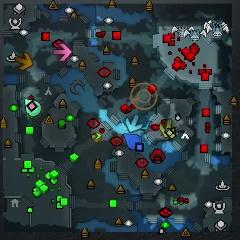p1: (124, 133, 141, 149)
p2: (25, 98, 41, 116)
x1: (53, 44, 71, 61)
x2: (161, 120, 175, 137)
x3: (125, 115, 143, 132)
x5: (16, 53, 33, 70)
